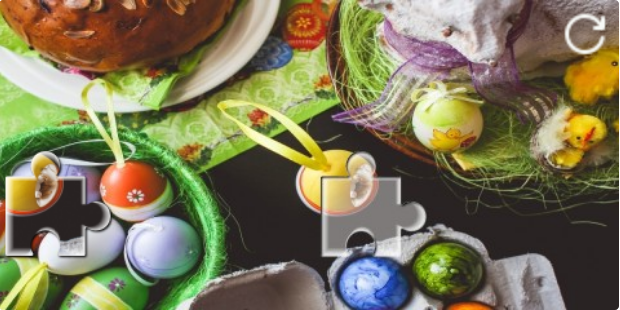target: (321, 151, 426, 257)
